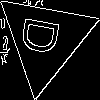D: (20, 14, 69, 59)
